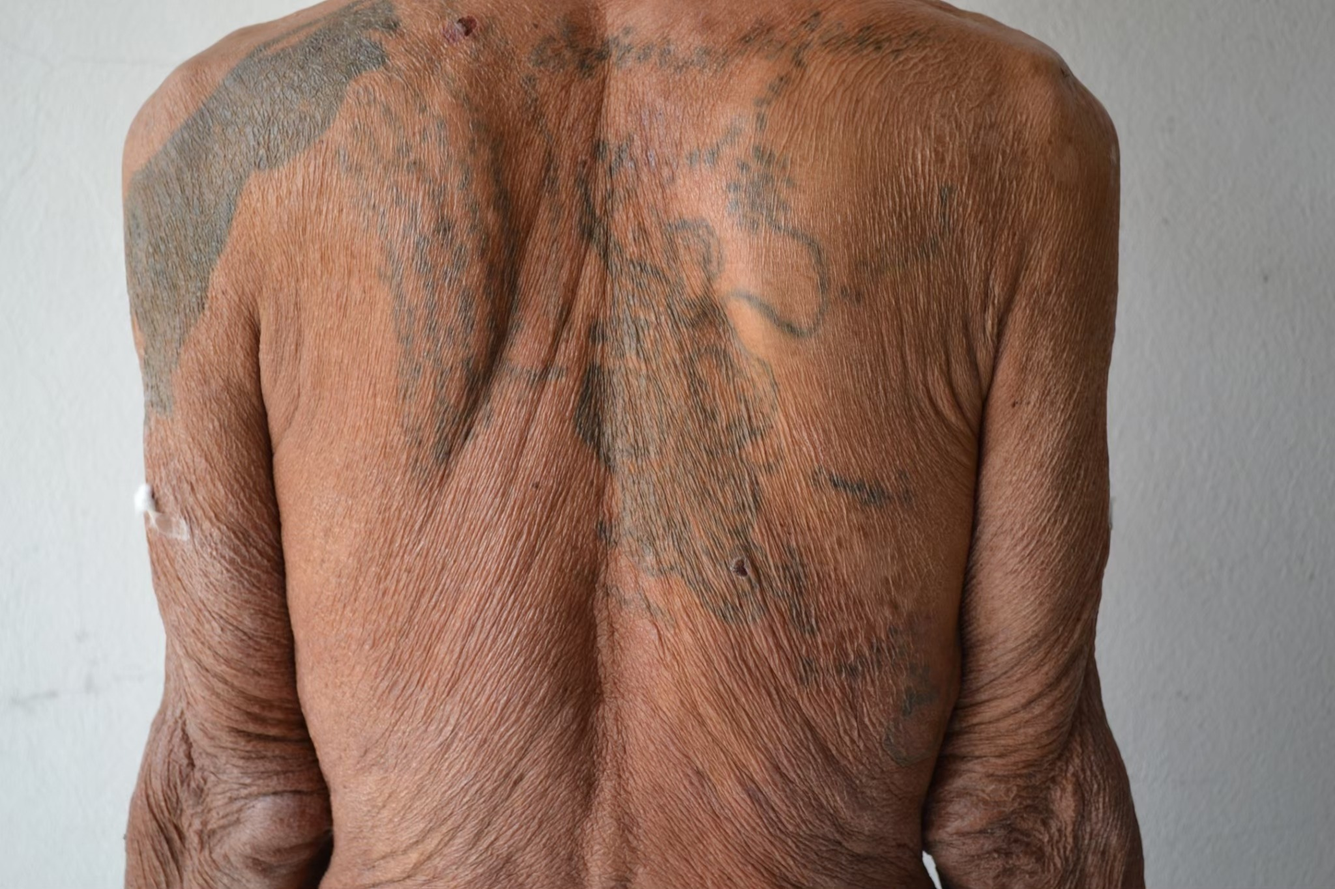Leprosy: (811, 511, 942, 645)
